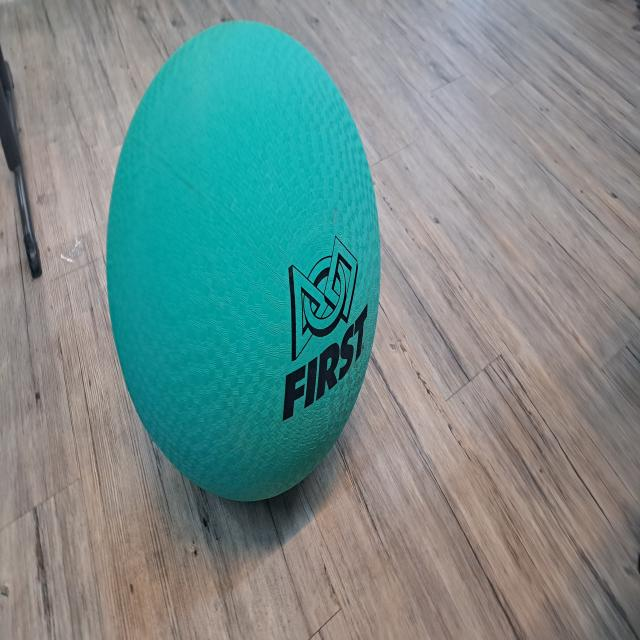ALGAE: (104, 19, 382, 504)
